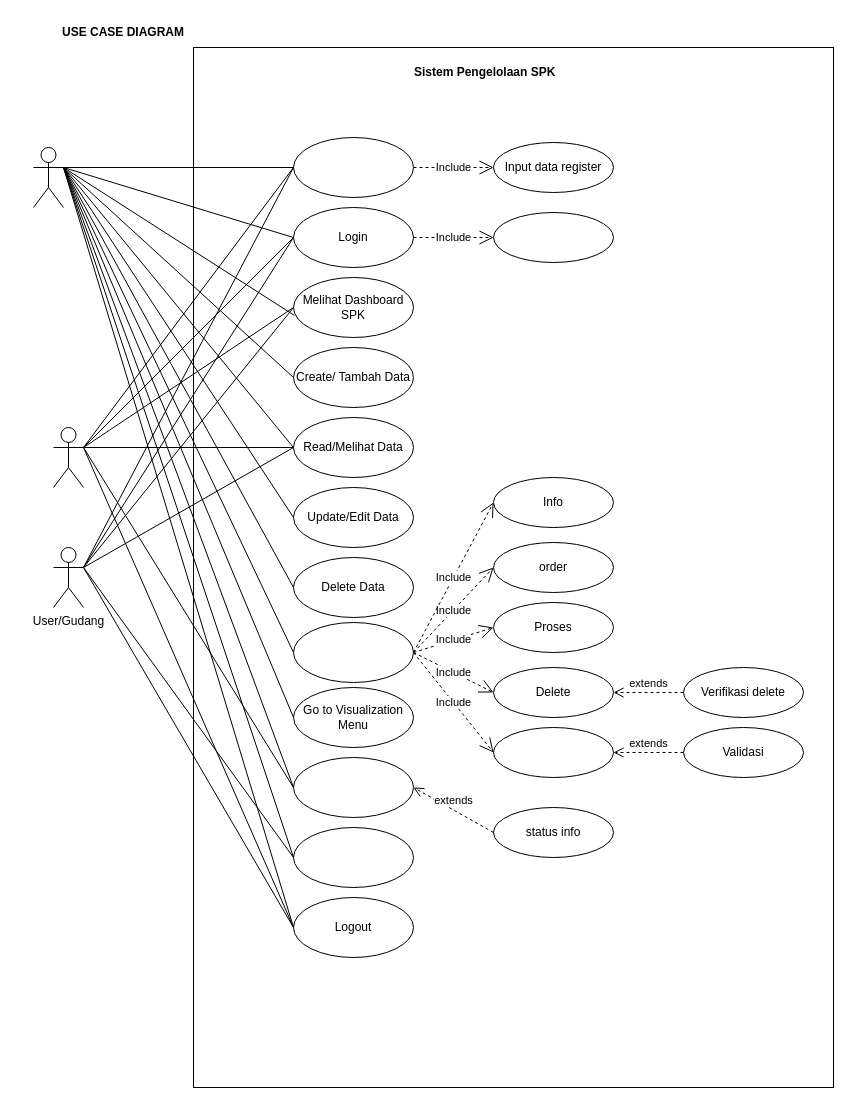
Some shapes in this 851 by 1105 pixel diagram are drawn without their labels. The centre of each missing label's shape, as x and y in pixels:
"Go to Gudang Menu" belongs at point 353,857.
"Go to Permesinan Menu" belongs at point 353,787.
"Go to SPK Menu" belongs at point 353,652.
"Input data login" belongs at point 553,237.
"PPC/Admin" belongs at point 48,177.
"Register" belongs at point 353,167.
"Tambah SPK" belongs at point 553,752.
"User/Produksi" belongs at point 68,457.
